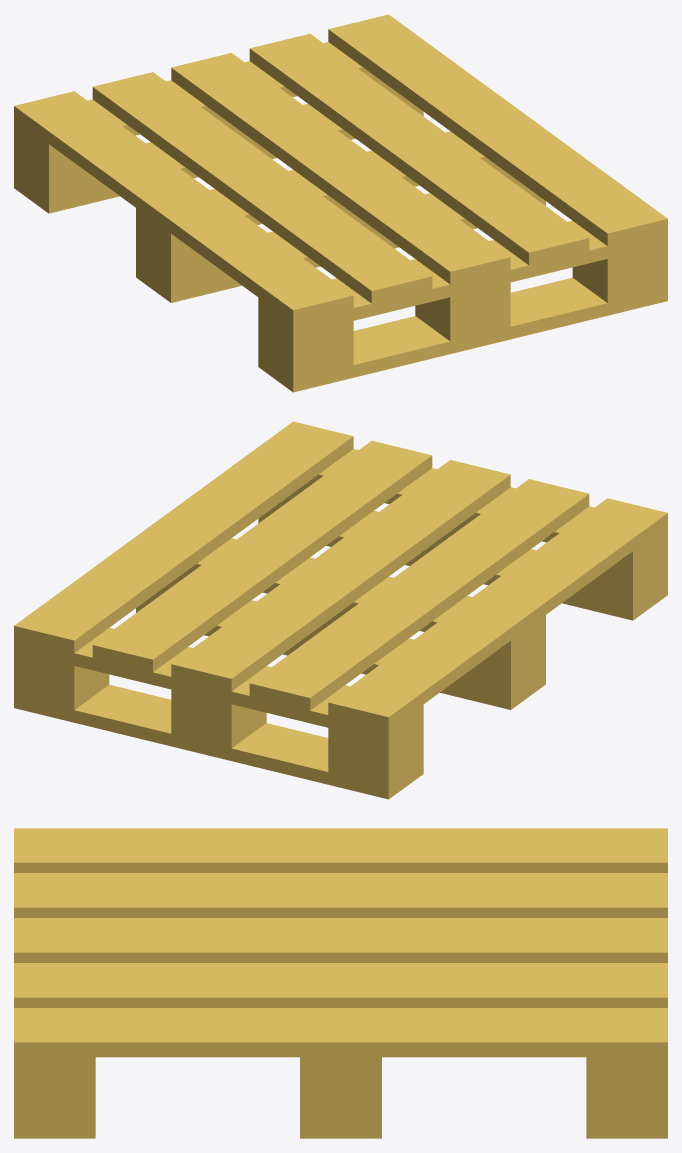
File: pallets.gltf
3 renders of one model, top to bottom at view 1: azimuth 30°, elevation 25°; view 2: azimuth 150°, elevation 25°; view 3: azimuth 270°, elevation 25°, orthographic. The views are drawn at different scales.
Parts seen in each view (by area): view 1: cuboid (×16); view 2: cuboid (×16); view 3: cuboid (×14).
Part boxes in pixels (left/top/right/bottom): cuboid (×16): left=14, top=14, right=667, bottom=392; cuboid (×16): left=14, top=421, right=667, bottom=799; cuboid (×14): left=14, top=828, right=667, bottom=1138.
Size of the model in its own units: 0.3875 by 0.0812 by 0.5.
Materials: 1 (1 with a texture image).
